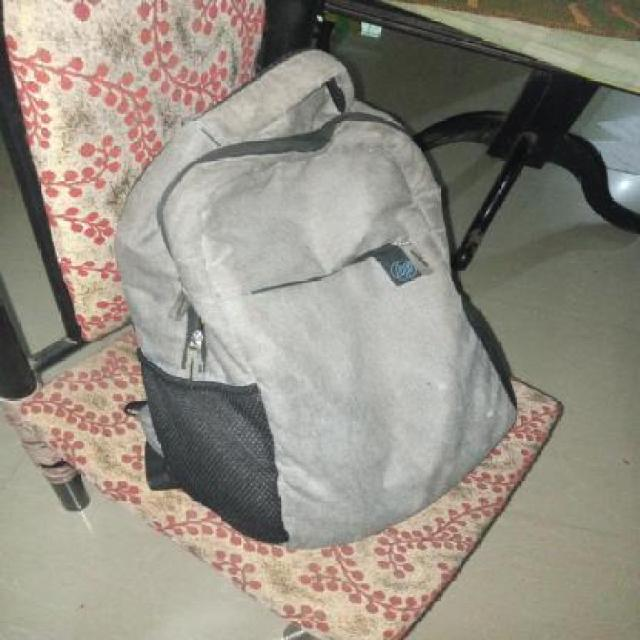backpack: (109, 43, 523, 557)
